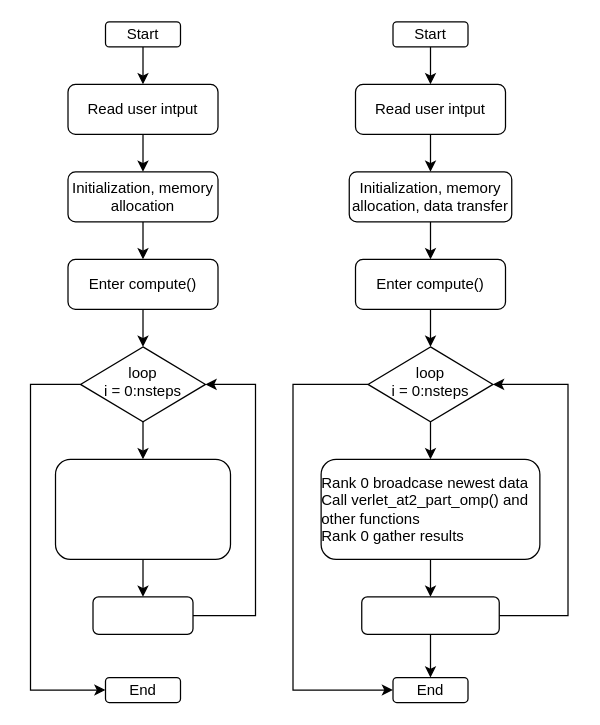
The diagram is 600 pixels wide and 725 high, and some of its shapes have lost their labels. The centre of each missing label's shape, as x and y in pixels:
Call: compute_seq(), or compute_omp(), or compute_pth(), or compute_cu(): the point at 142,508
Draw frame: the point at 142,615
Rank 0 draw frame: the point at 429,615
